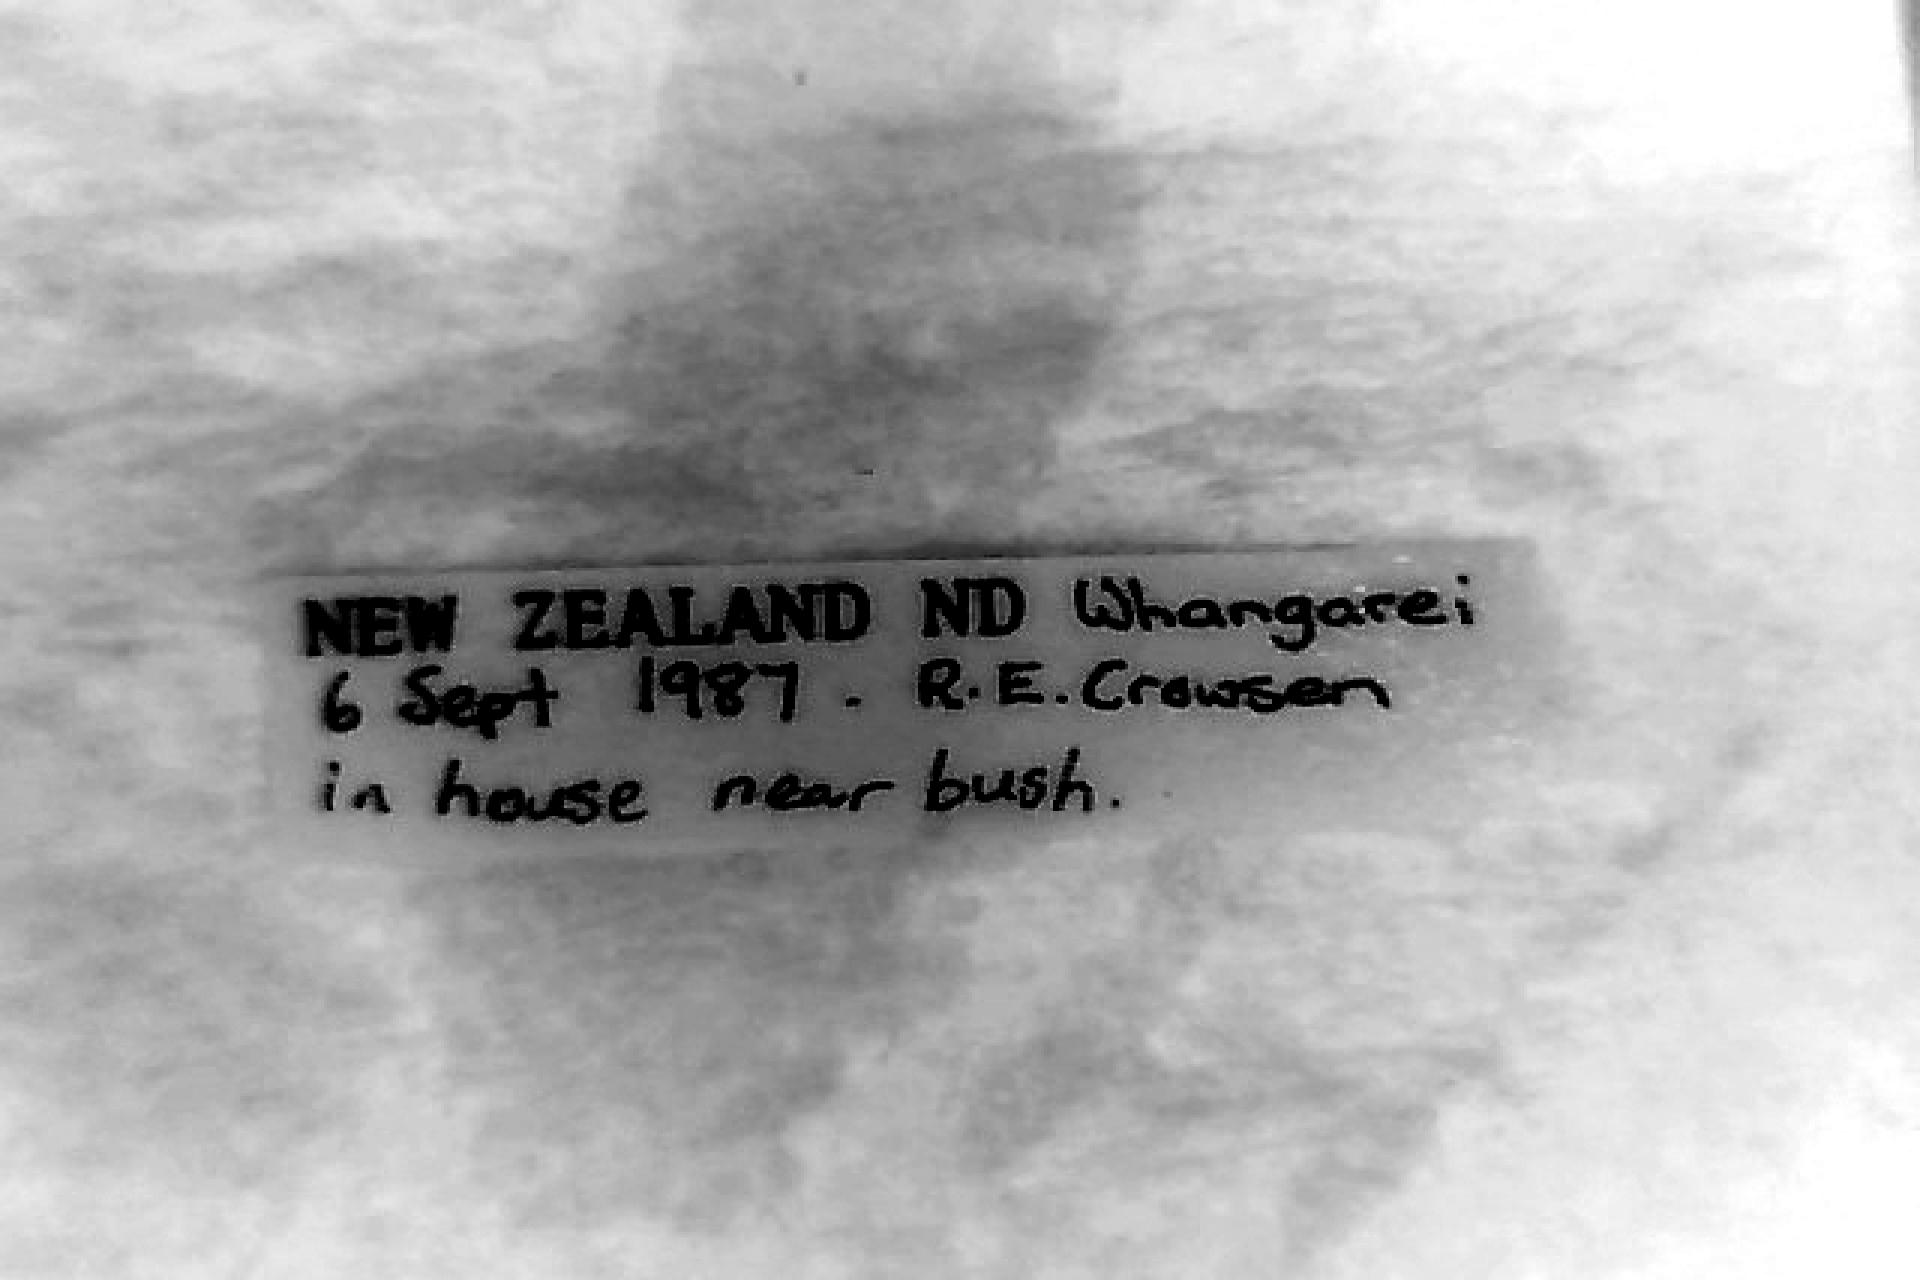mixed_label: (270, 540, 1530, 854)
